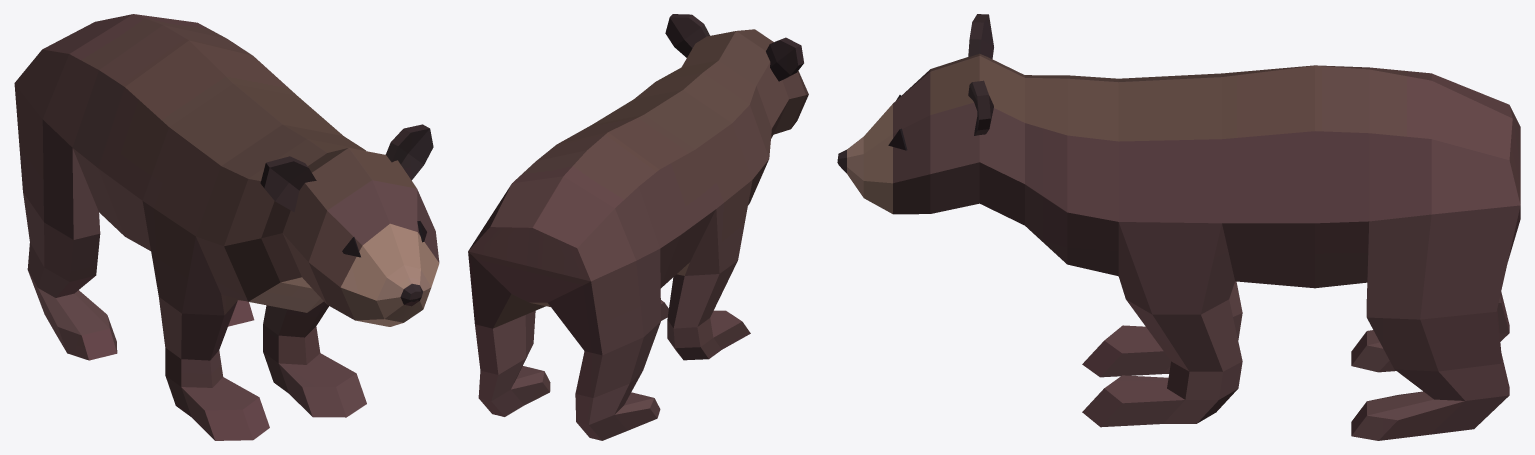
The model's file is bear-cub-poly-by-google_dc_78YWzT_R.glb.
3 views of the same model, side by side, from view 1: azimuth 30°, elevation 25°; view 2: azimuth 150°, elevation 25°; view 3: azimuth 270°, elevation 25° (orthographic). The views are drawn at different scales.
Visible parts, largest first — view 1: Geo_BearCub; view 2: Geo_BearCub; view 3: Geo_BearCub.
Part boxes in pixels (x1,y1,x2,y2): Geo_BearCub: (14,14,439,440); Geo_BearCub: (468,14,808,440); Geo_BearCub: (837,14,1520,440).
Bounding box in the file's own units: 35.59 × 58.42 × 106.
Materials: 1 (1 with a texture image).
